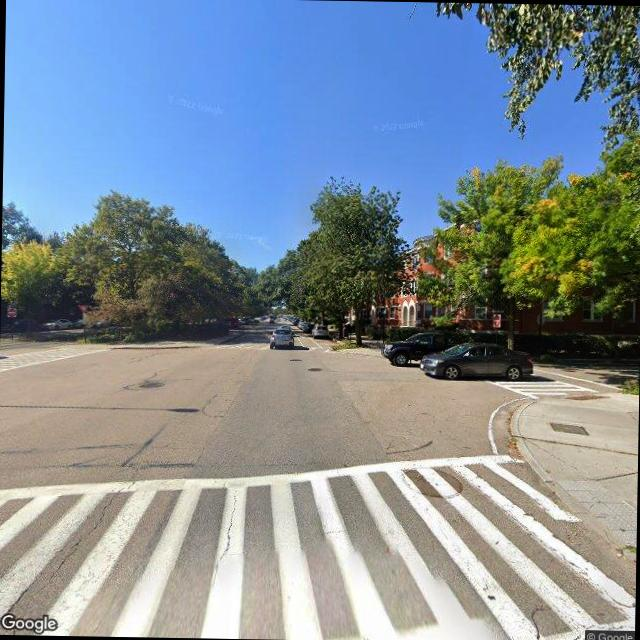pothole: (35, 486, 120, 594), (214, 486, 241, 558)
